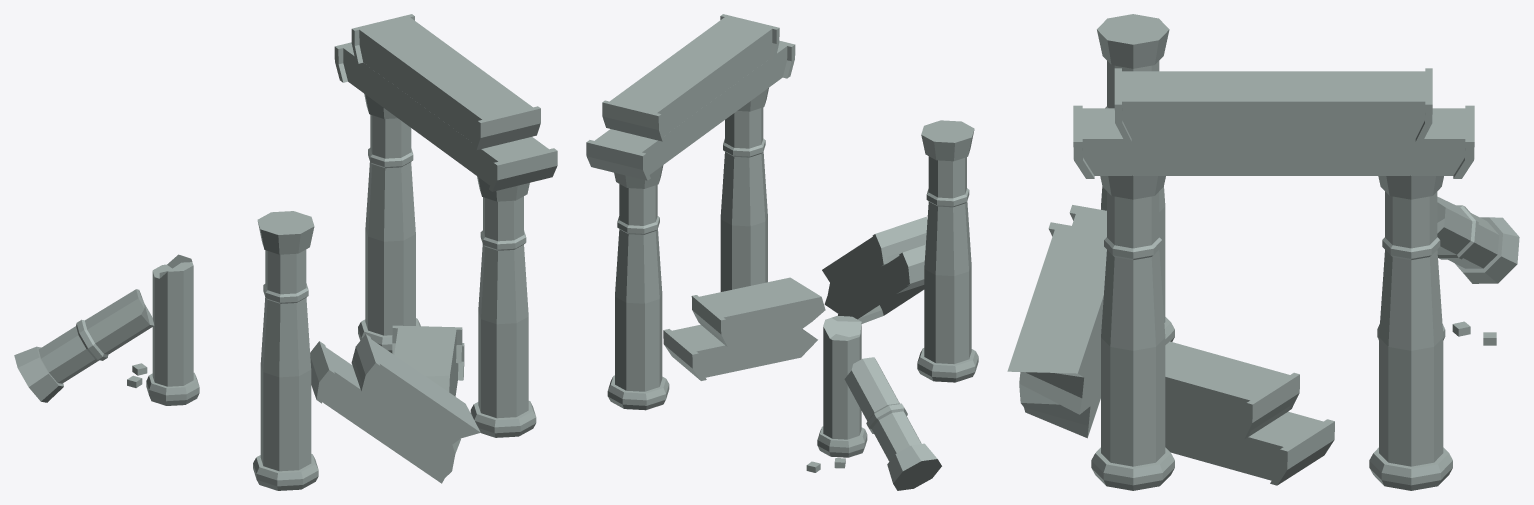
Rendered from ruins.glb.
3 views of the same model, side by side, from view 1: azimuth 30°, elevation 25°; view 2: azimuth 150°, elevation 25°; view 3: azimuth 270°, elevation 25° (orthographic). The views are drawn at different scales.
Visible parts, largest first — view 1: руимны; view 2: руимны; view 3: руимны.
Part boxes in pixels (x1,y1,x2,y2): руимны: (14, 14, 557, 490); руимны: (586, 14, 978, 490); руимны: (1007, 14, 1519, 490).
Size of the model in its own units: 5.09 by 4.18 by 4.87.
1 material, 1 textured.
